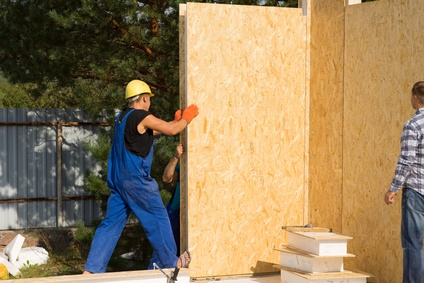none: (409, 81, 424, 111)
yellow: (124, 79, 152, 112)
